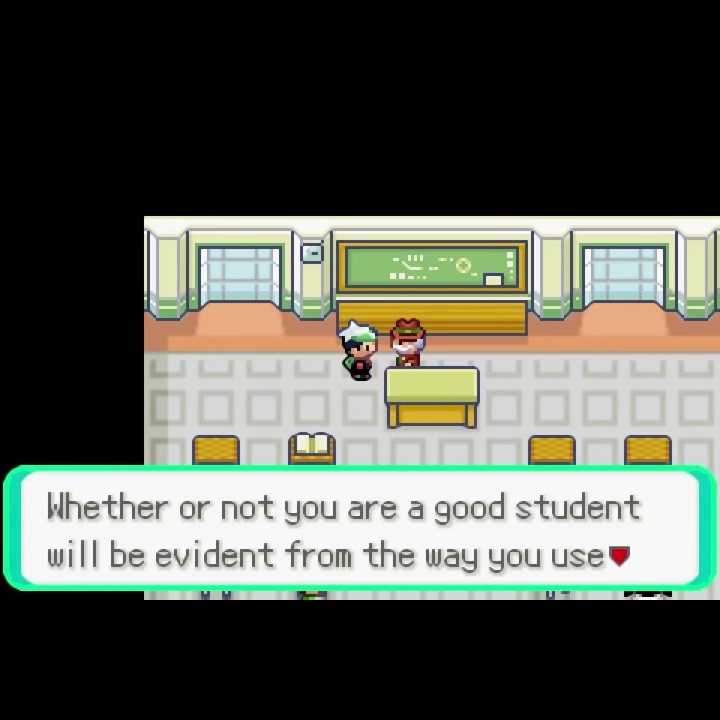npc: (335, 316, 383, 383), (388, 314, 428, 368)
